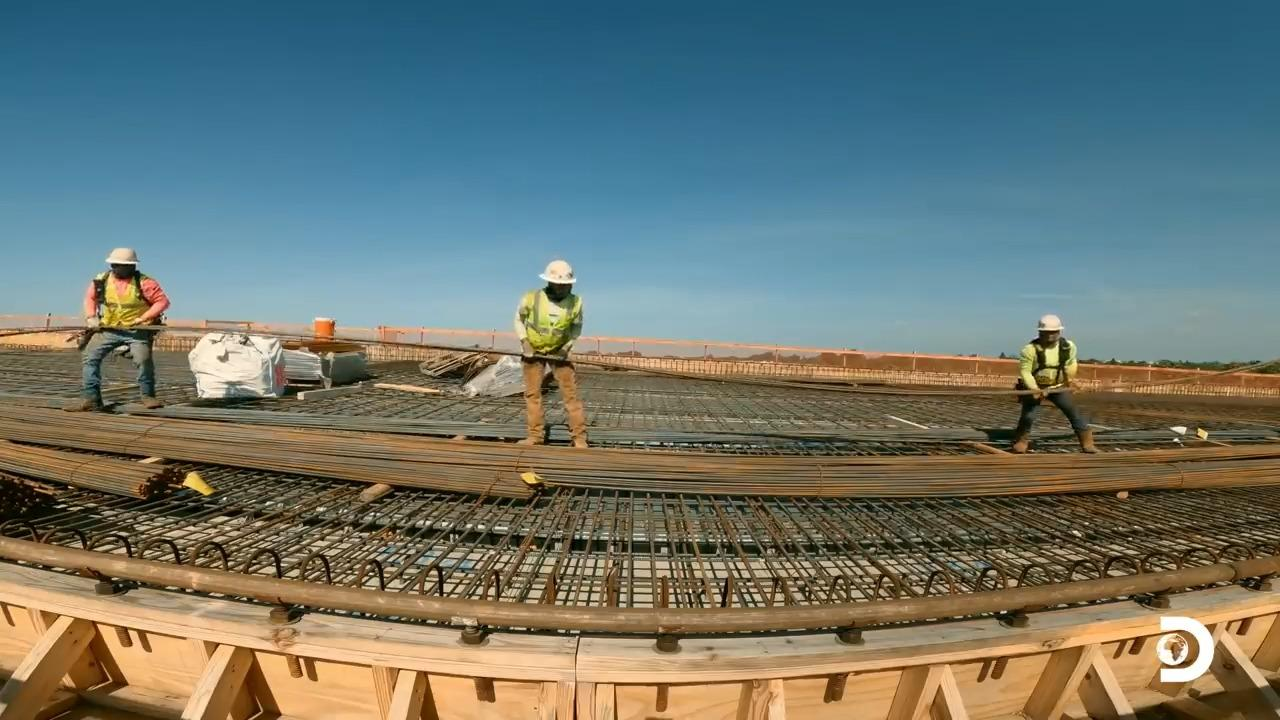Gloves: (519, 435, 546, 448), (126, 316, 144, 335), (523, 337, 537, 358), (87, 316, 103, 332), (553, 350, 568, 364), (1035, 388, 1051, 400)
Helmet: (538, 260, 577, 284), (105, 247, 139, 265), (1036, 314, 1064, 332)
Person: (63, 246, 170, 412), (513, 259, 589, 448), (1009, 313, 1103, 454)
Safety Boot: (1013, 432, 1032, 456), (1083, 439, 1102, 454), (144, 396, 163, 410), (82, 399, 105, 410), (571, 435, 591, 446)
Safety Vest: (528, 299, 578, 357), (103, 278, 148, 327), (1027, 342, 1067, 384)
